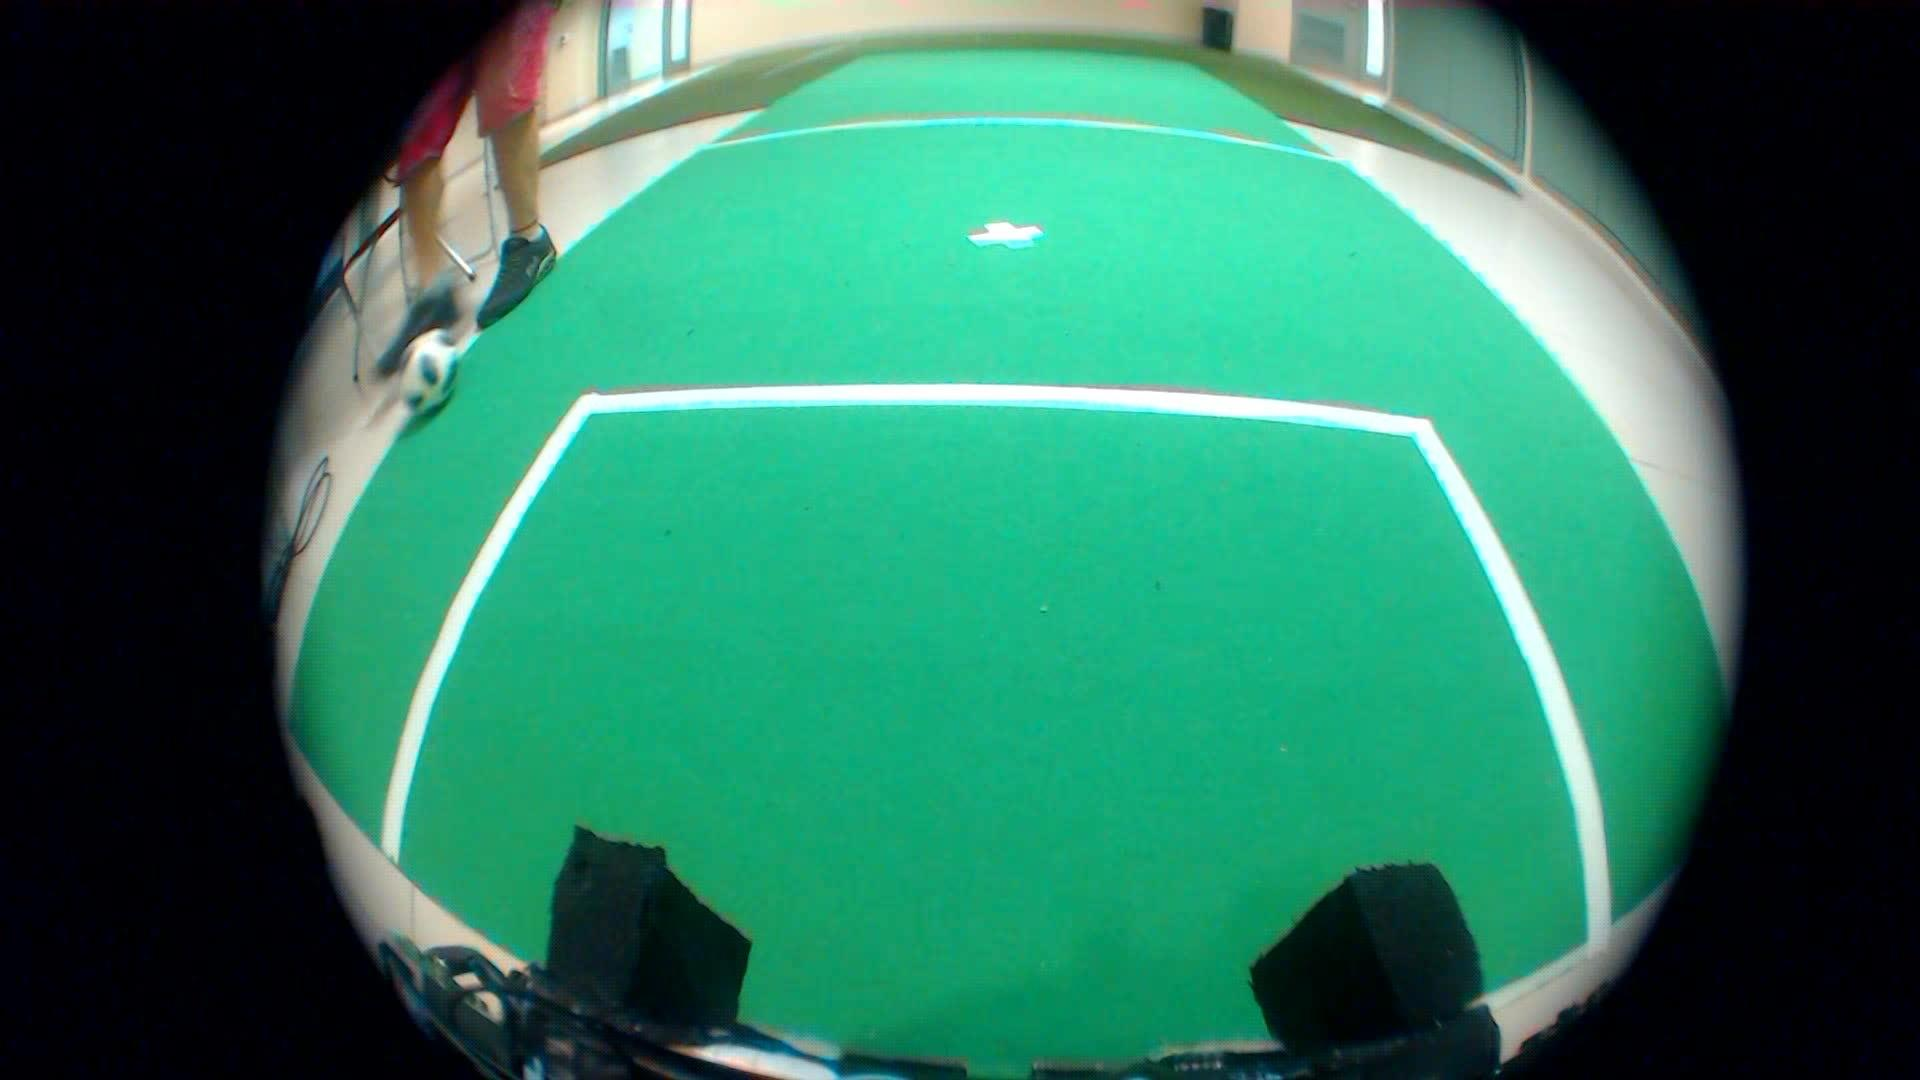ball: (375, 319, 476, 410)
